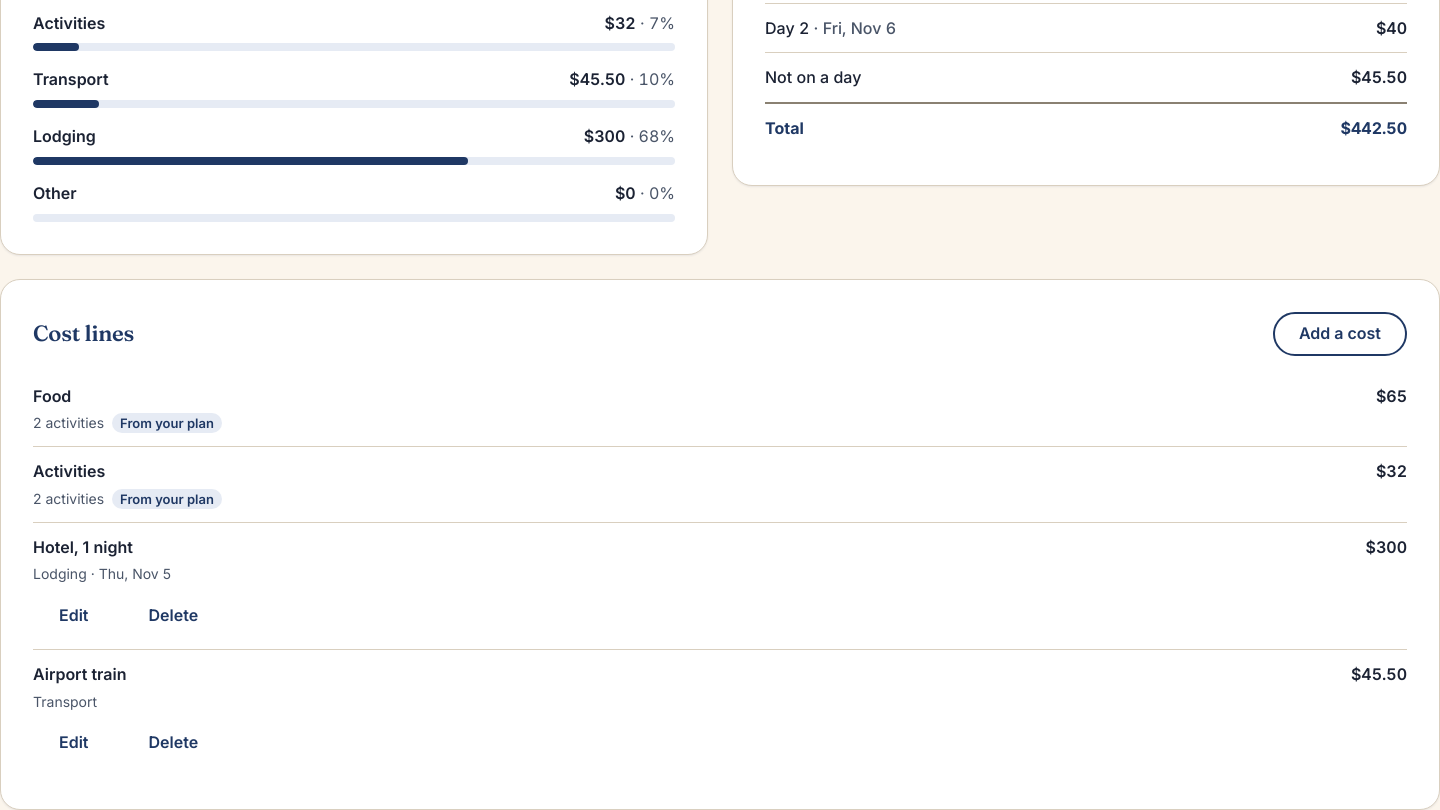
it: Cost lines › shows the message when a delete fails
(page scrolled)
Click the button with aria-label "Delete Airport train": (173,743) top-left (122, 721), bottom-right (224, 765)
(page scrolled)
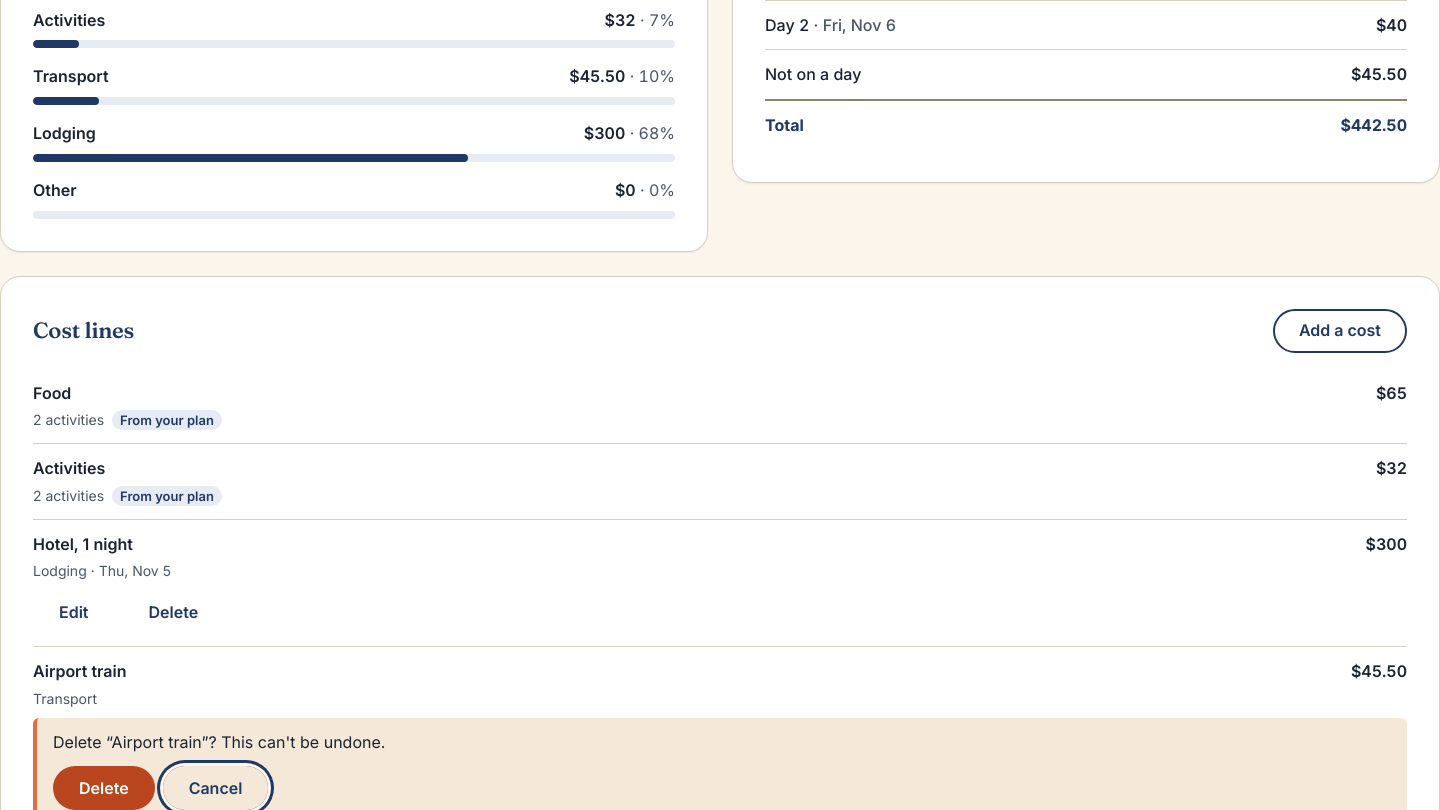
Click the button "Delete" below "Delete “": (104,788) top-left (53, 766), bottom-right (155, 809)
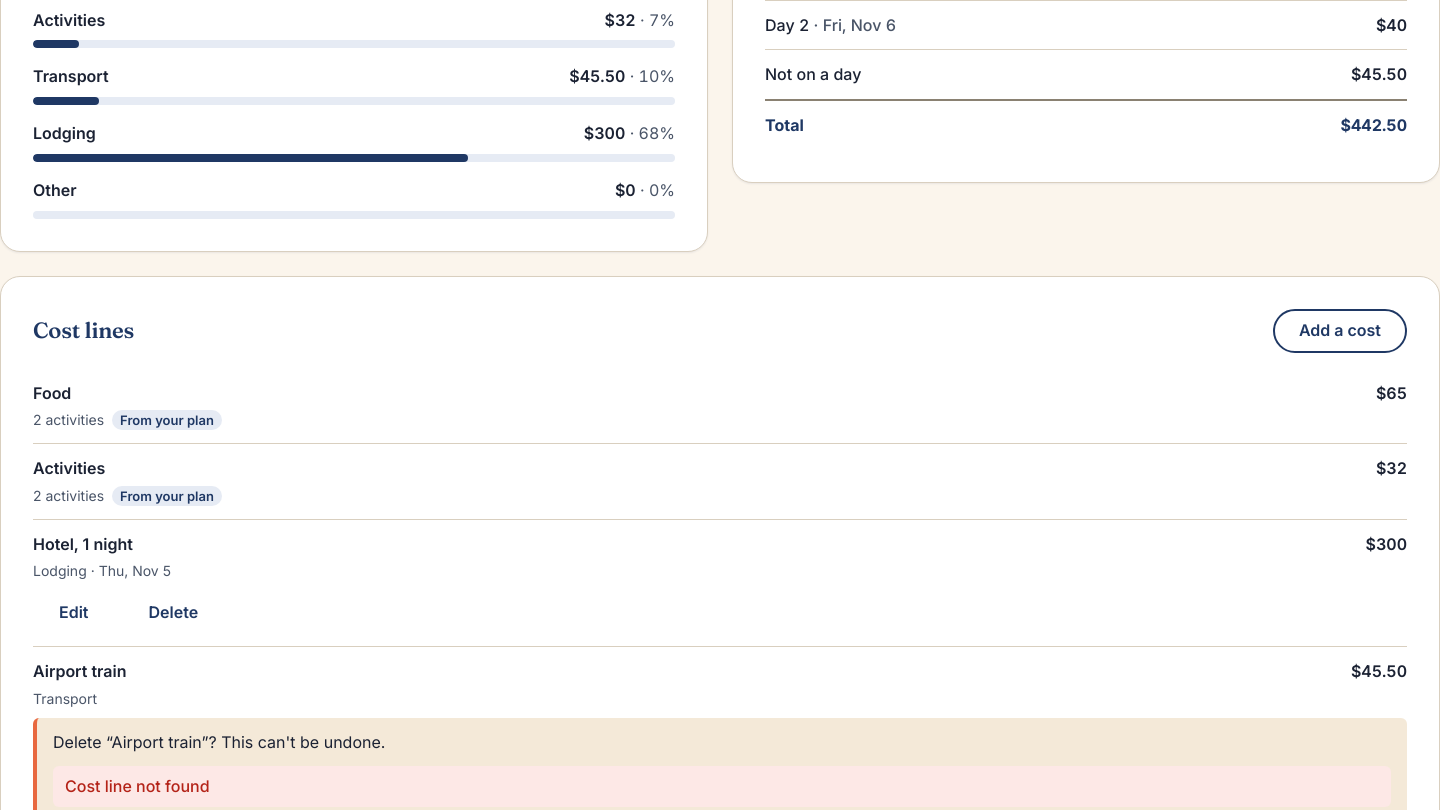
Expected: the message reads "Cost line not found", top-left (65, 776), bottom-right (210, 796)
